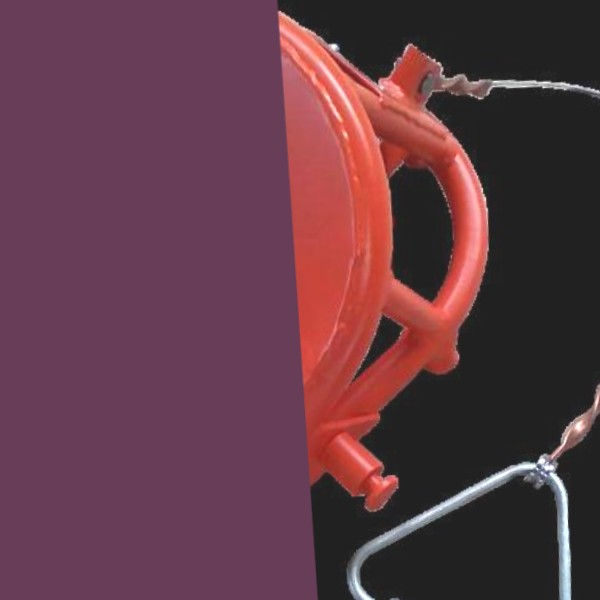chock: (0, 0, 547, 600)
